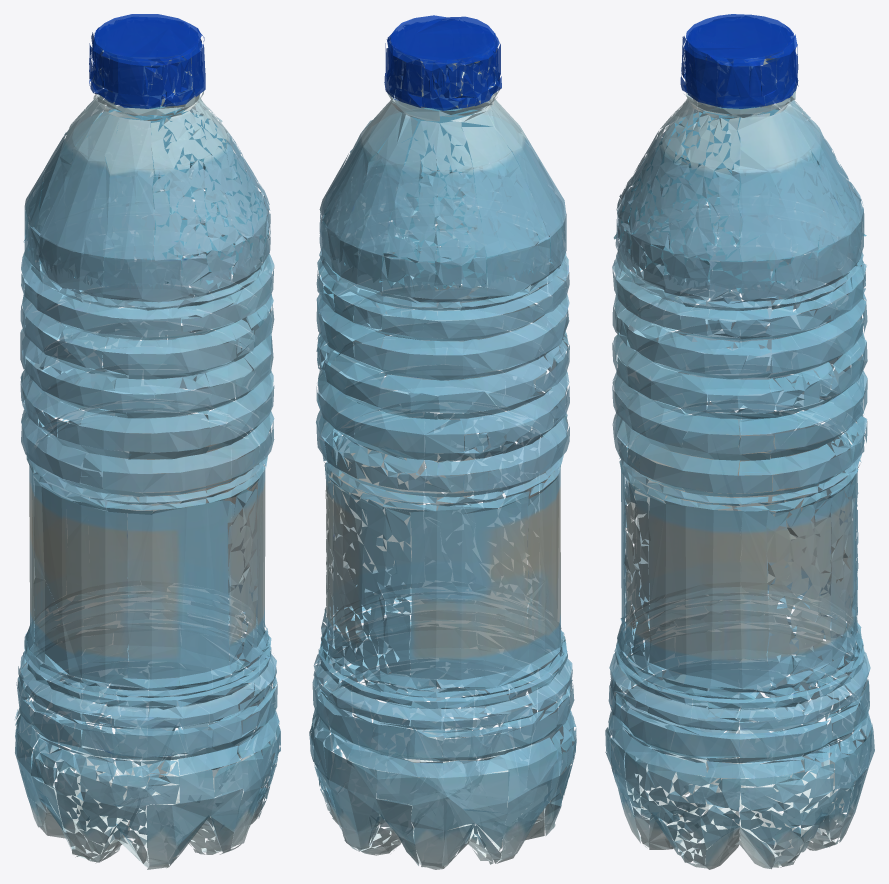
The model's file is tool.bottle.glb.
The picture shows the model from 3 angles, left to right: view 1: azimuth 30°, elevation 25°; view 2: azimuth 150°, elevation 25°; view 3: azimuth 270°, elevation 25°; orthographic projection.
Visible parts, largest first — view 1: geometry_0; view 2: geometry_0; view 3: geometry_0.
Part boxes in pixels (<box>): geometry_0: <box>14,14,280,869</box>; geometry_0: <box>309,15,576,869</box>; geometry_0: <box>605,14,874,869</box>.
Size of the model in its own units: 0.307 by 1.01 by 0.3073.
Materials: 1 (1 with a texture image).
